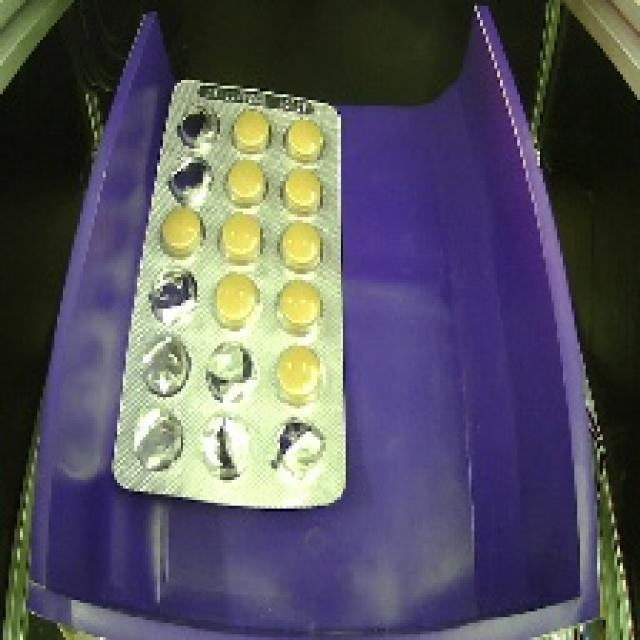med_plate: (100, 60, 364, 518)
